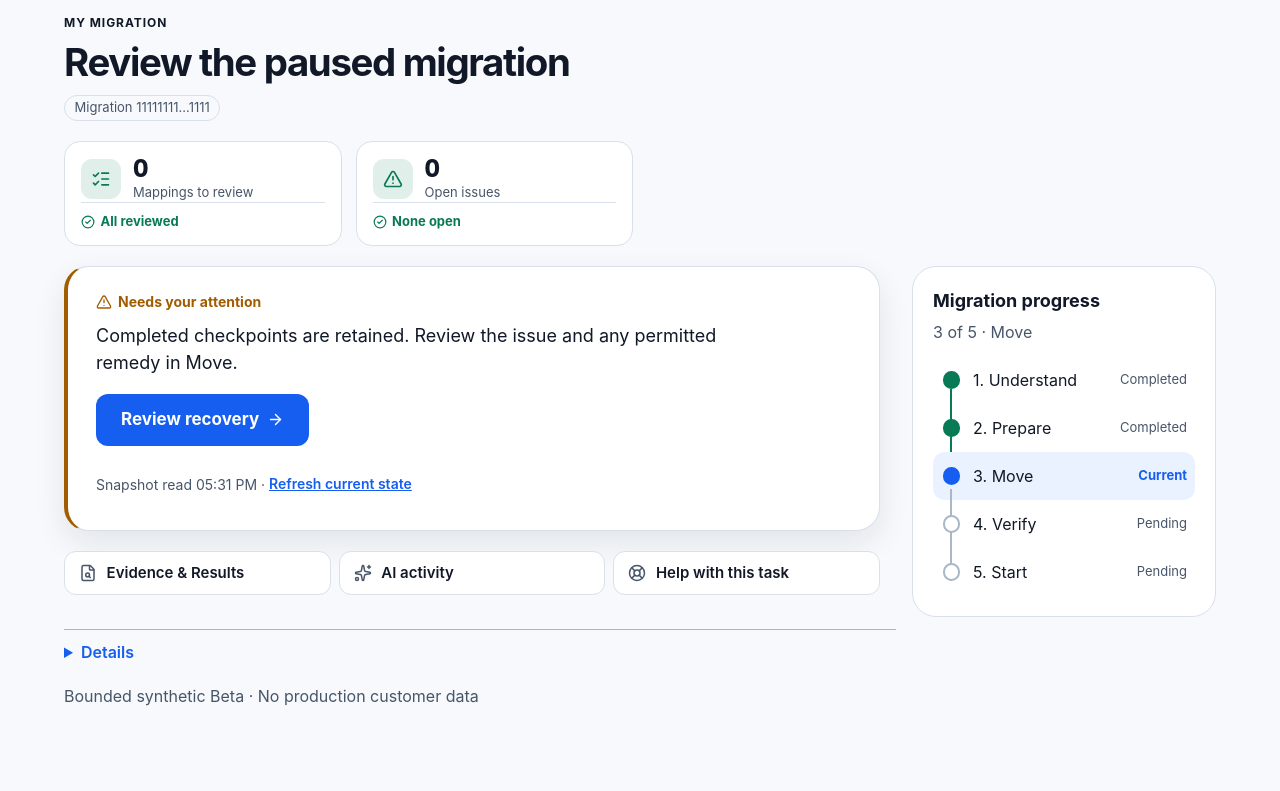
Test: copying the owned link is explicit and handles unavailable clipboard (true)
This screenshot has width=1280, height=791.
Expected: the link "Review recovery" is shown, [96,394,309,446]
Step 1. Click the heading "Details" → point(107, 652), box [81,642,134,662]
(page scrolled)
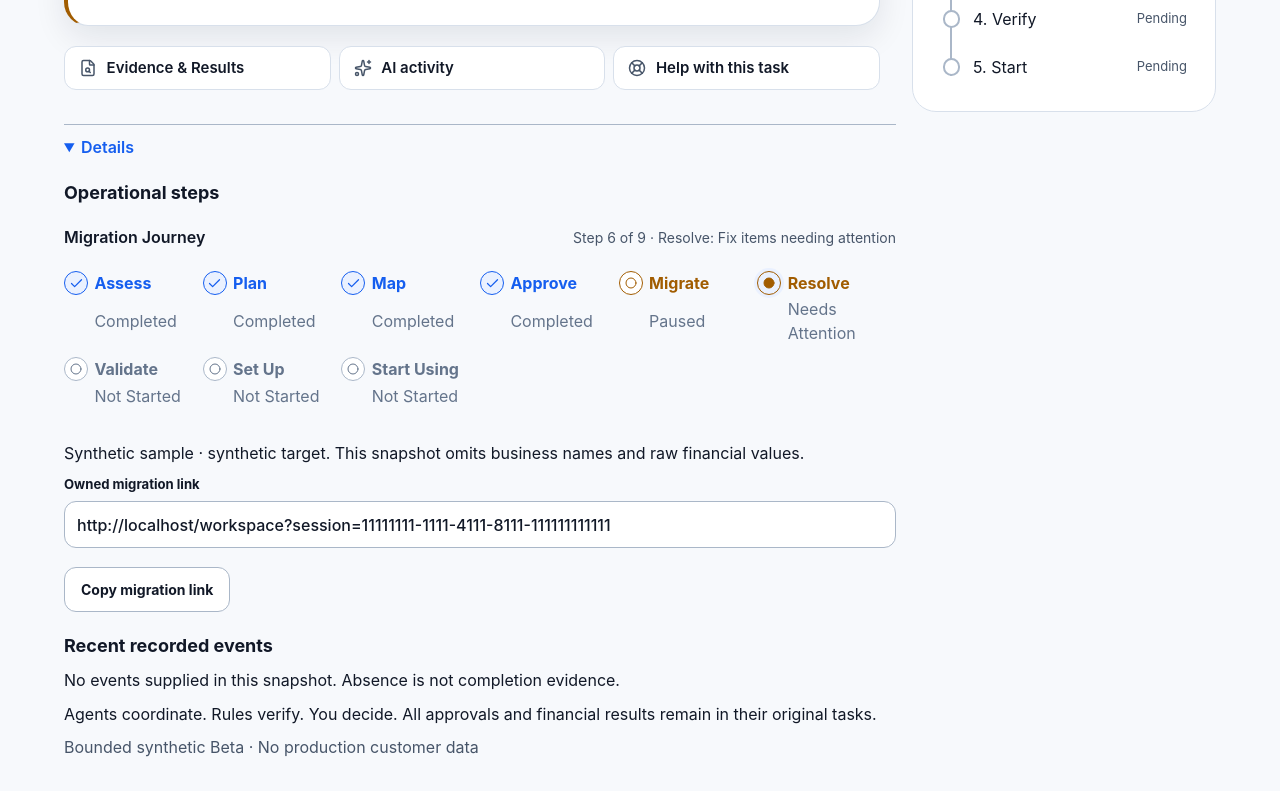
Step 2. Click the button "Copy migration link" → point(147, 590), box [64,567,230,612]
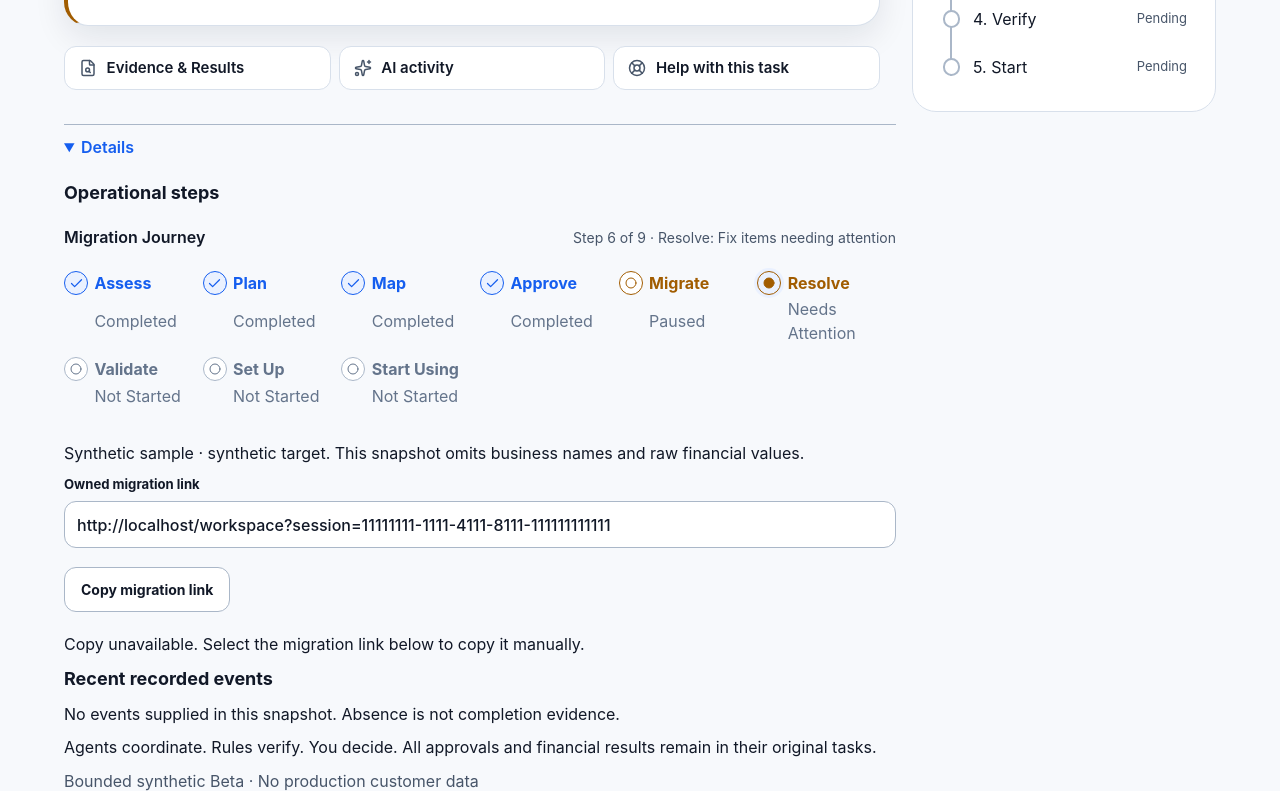
Expected: the text "Copy unavailable. Select the migration link below to copy it manually." is shown, [64,634,585,654]
